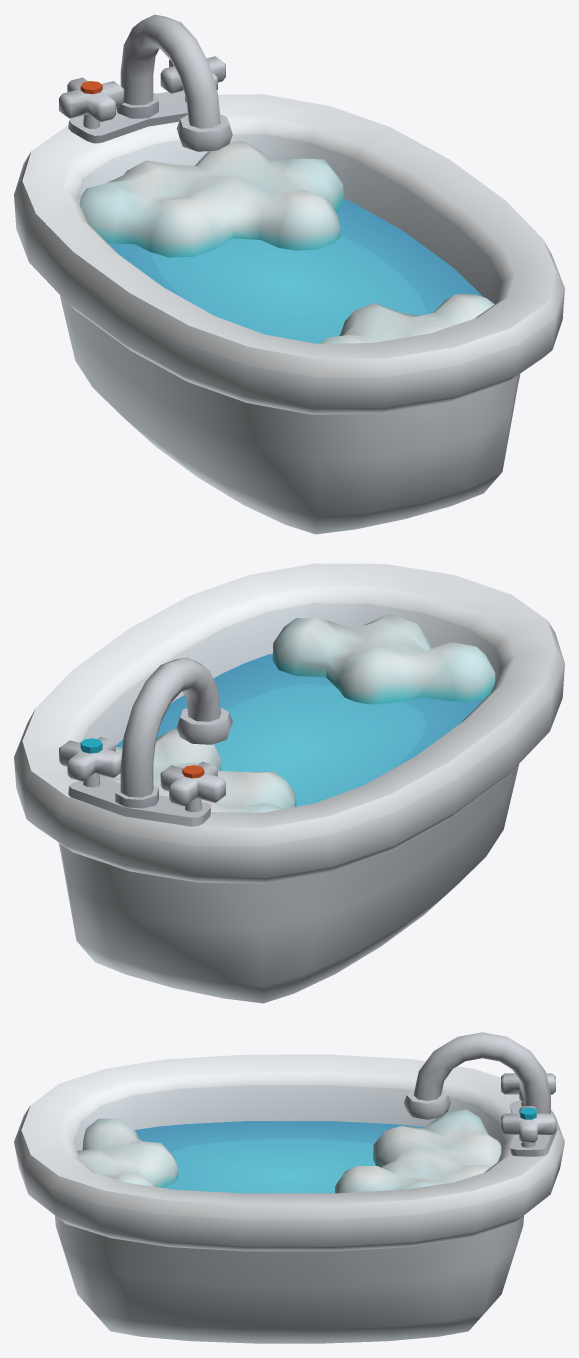
File: Bath.glb
3 views of the same model, one above another, from view 1: azimuth 30°, elevation 25°; view 2: azimuth 150°, elevation 25°; view 3: azimuth 270°, elevation 25° (orthographic). The views are drawn at different scales.
Parts seen in each view (by area): view 1: bath, bath_water; view 2: bath, bath_water; view 3: bath, bath_water.
Part boxes in pixels (x1,y1,x2,y2): bath: [14, 14, 564, 534]; bath_water: [79, 140, 494, 343]; bath: [14, 563, 564, 1003]; bath_water: [99, 613, 495, 812]; bath: [14, 1032, 564, 1343]; bath_water: [77, 1109, 501, 1193].
Bounding box in the file's own units: 2 × 1.61 × 3.
Materials: 1 (1 with a texture image).
